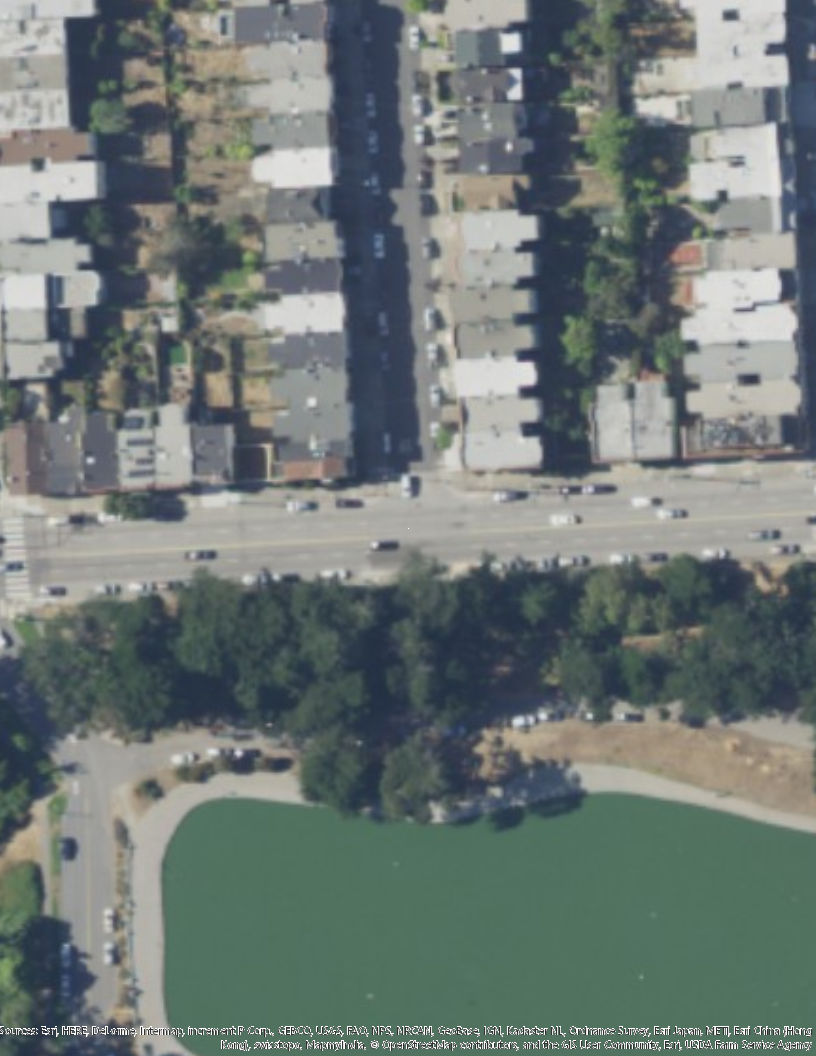zebracross: (1, 517, 34, 599)
